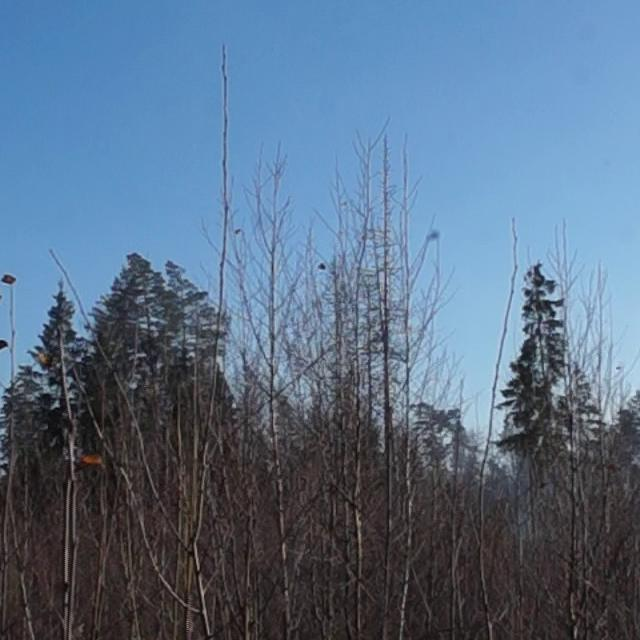Smoke: (456, 450, 542, 552)
